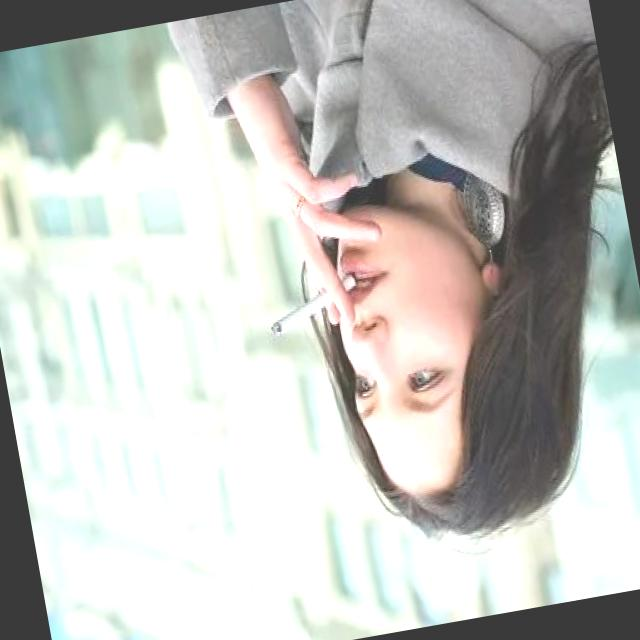cigarette: (264, 268, 368, 338)
